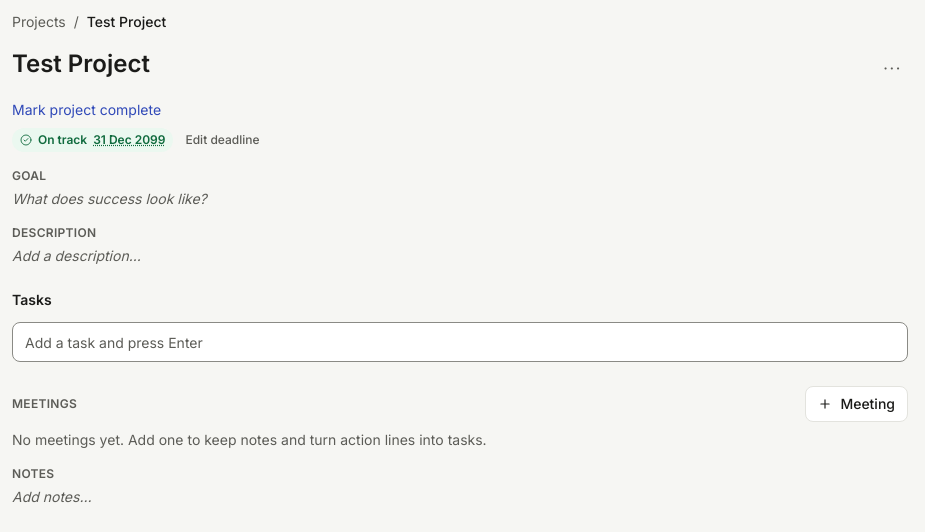
Test: ItemDetailView — InlineDeadline editor › "Clear deadline" button appears when editing an existing deadline
The width and height of the screenshot is (925, 532).
Click the button "Edit deadline" at (223, 140), box [186, 132, 260, 148]
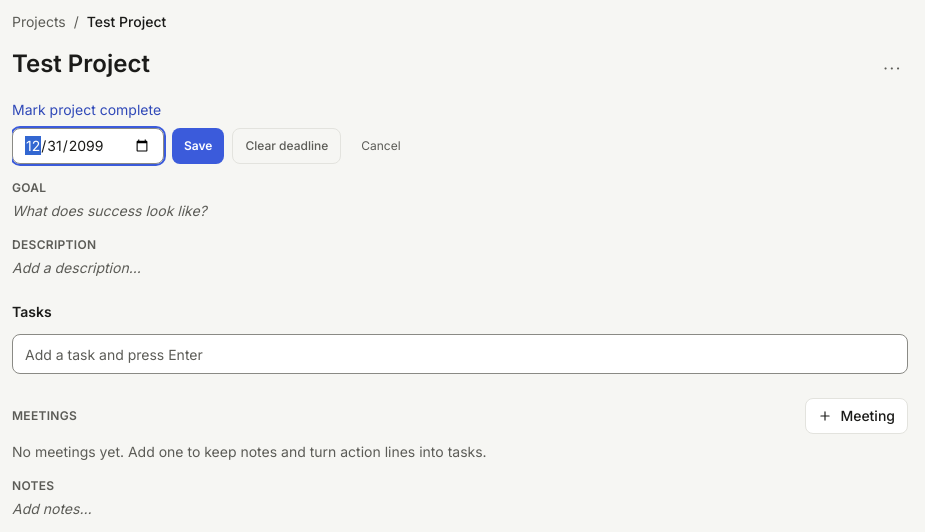
Result: the button "Clear deadline" is shown at [232, 128, 341, 164]
